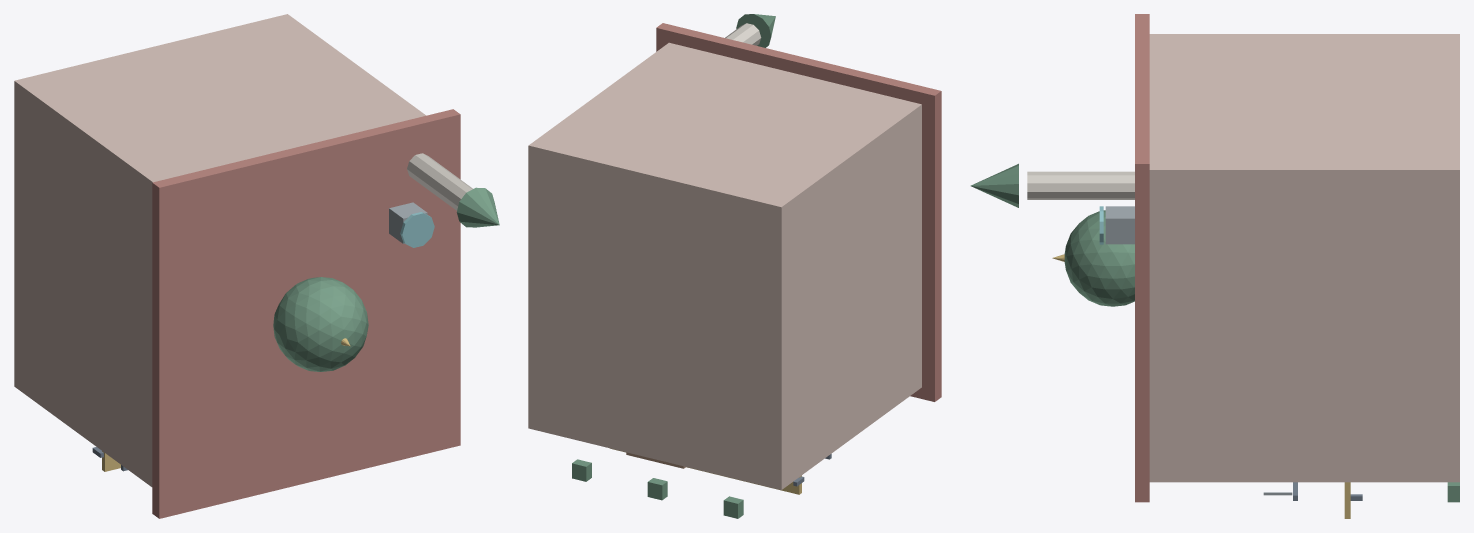
The model's file is mushola.glb.
3 renders of one model, left to right at view 1: azimuth 30°, elevation 25°; view 2: azimuth 150°, elevation 25°; view 3: azimuth 270°, elevation 25°, orthographic. The views are drawn at different scales.
Visible parts, largest first — view 1: roof, wall3, green, wall, glass, metal2; view 2: wall3, roof, green, wall; view 3: wall3, roof, green, wall, metal2.
Part boxes in pixels (box(x1,y1,x2,y2)): roof: box(152, 109, 460, 518); wall3: box(14, 14, 425, 486); green: box(273, 187, 499, 371); wall: box(407, 153, 472, 210); glass: box(400, 212, 434, 247); metal2: box(389, 202, 427, 243); wall3: box(528, 42, 921, 489); roof: box(656, 23, 941, 401); green: box(572, 14, 775, 518); wall: box(725, 23, 761, 45); wall3: box(1149, 34, 1459, 482); roof: box(1135, 14, 1149, 502); green: box(970, 163, 1459, 502); wall: box(1027, 171, 1134, 199); metal2: box(1105, 206, 1292, 495).
Bounding box in the file's own units: 8.7 × 10.24 × 12.
